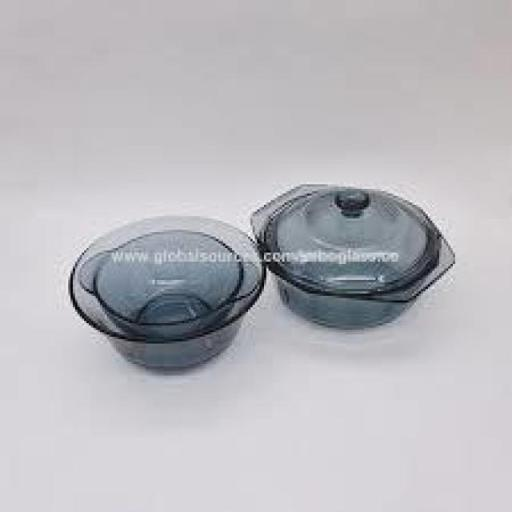glass: (242, 167, 466, 348), (63, 199, 270, 379)
